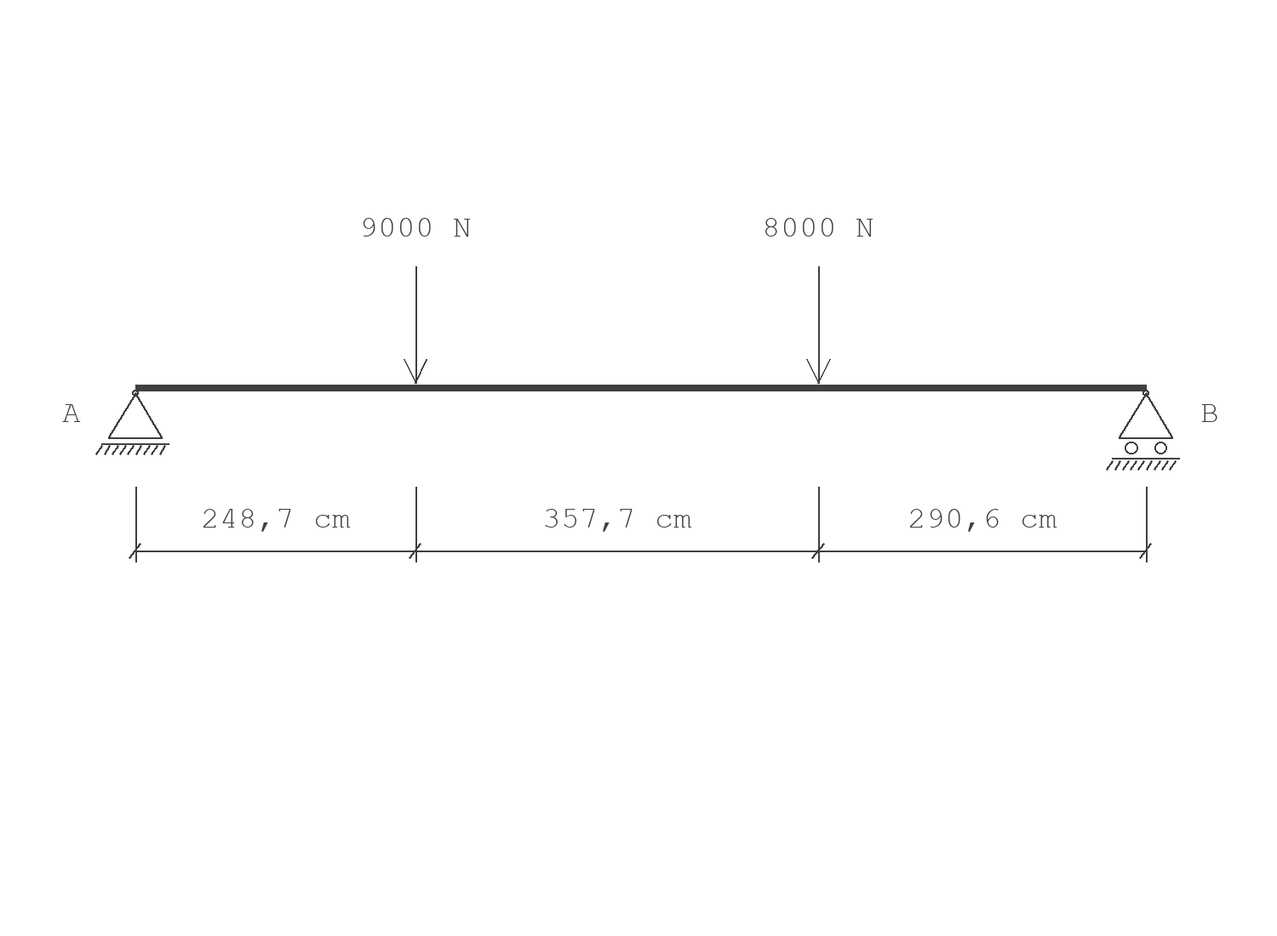pin_support: (95, 390, 169, 455)
point_load: (806, 266, 831, 384), (404, 266, 427, 384)
roller_support: (1106, 390, 1180, 471)
